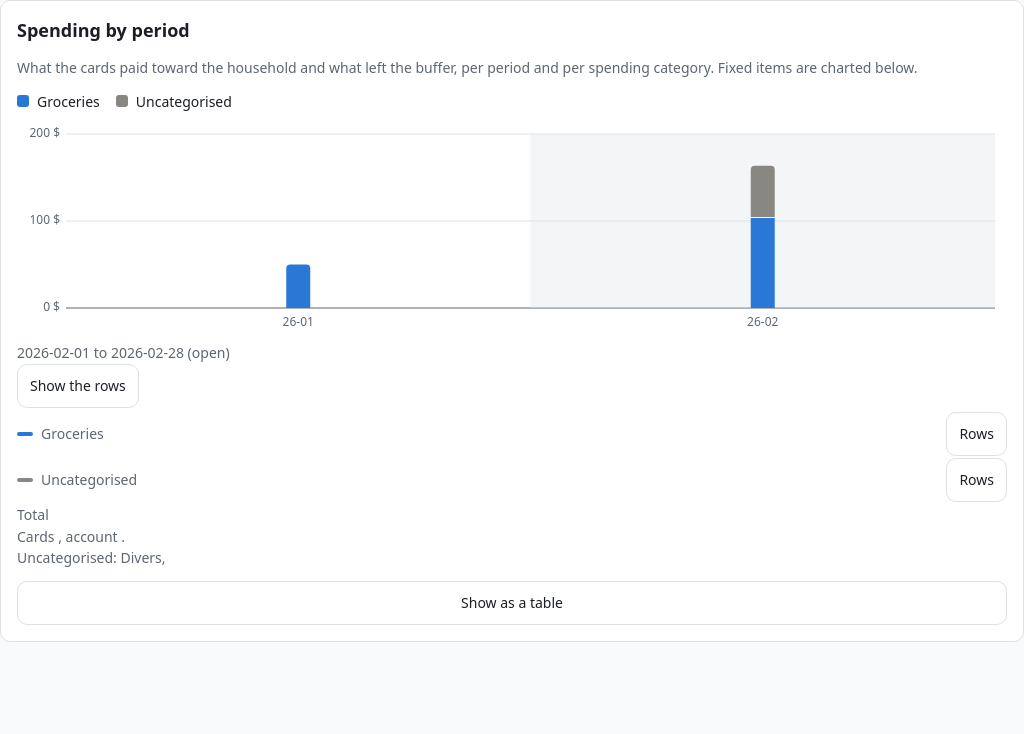
Test: a category's own button opens that category, the uncategorised as none
Expected: the slider is shown, x1=17 y1=124 x2=1007 y2=334
Click the button with aria-label "Show the rows for Groceries": (977, 434) x1=946 y1=412 x2=1007 y2=456
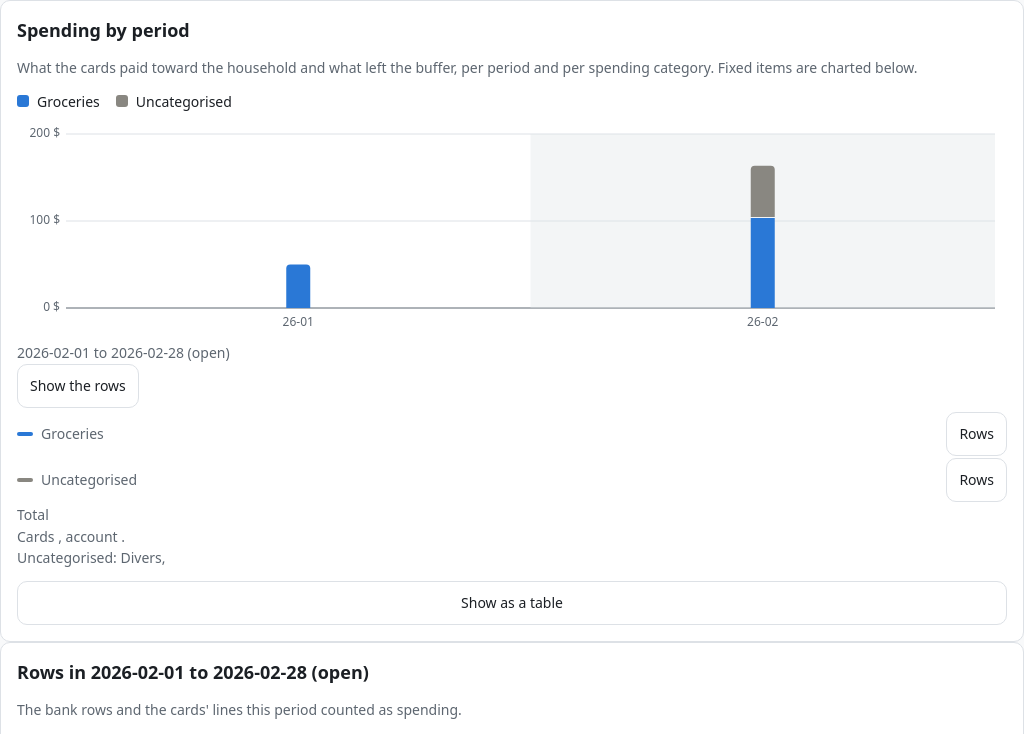
Click the button with aria-label "Show the rows for Uncategorised": (977, 480) x1=946 y1=458 x2=1007 y2=502
(page scrolled)
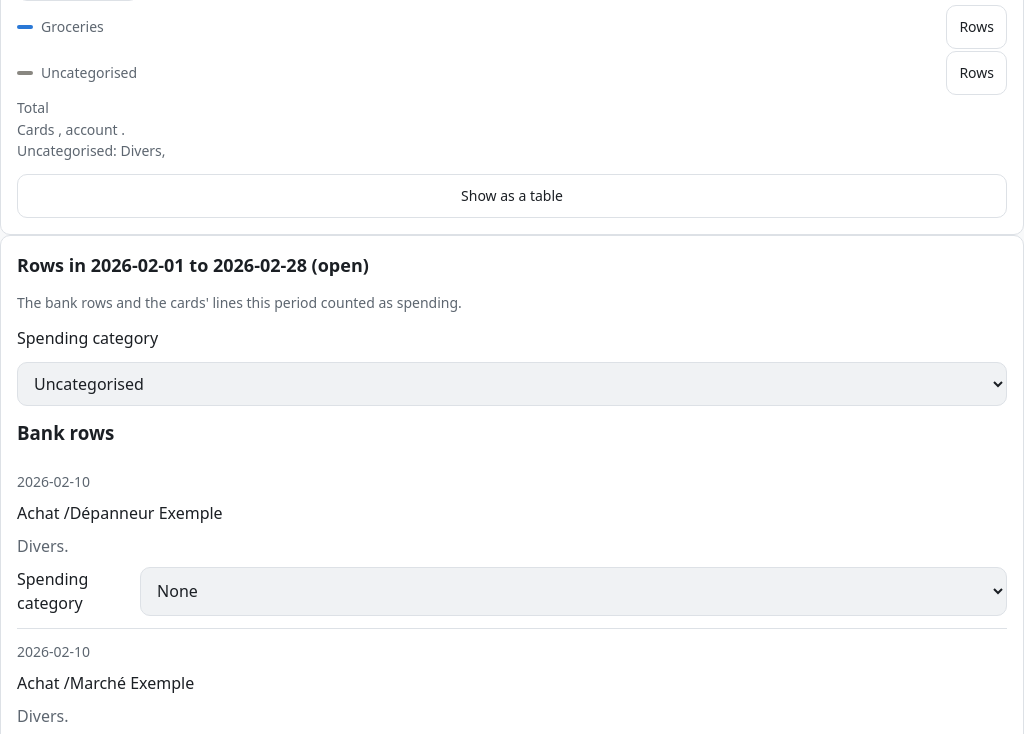
Expected: the dropdown labelled "Spending category" shows "Uncategorised", x1=17 y1=362 x2=1007 y2=406
